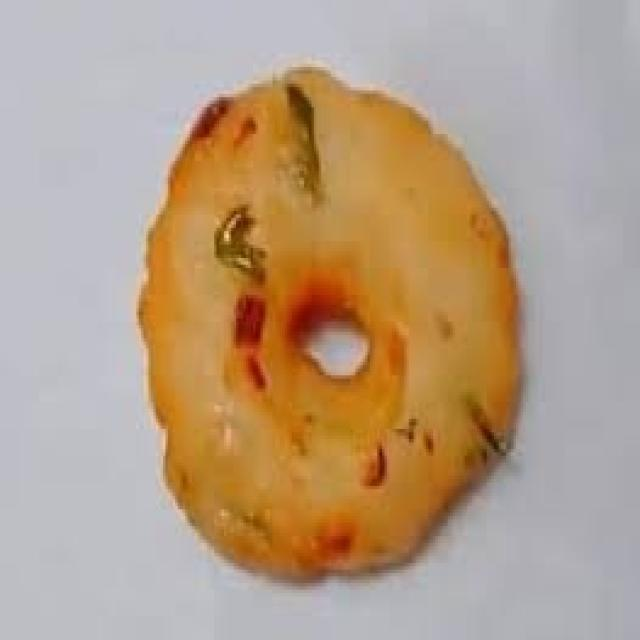medu vadai: (147, 42, 543, 605)
